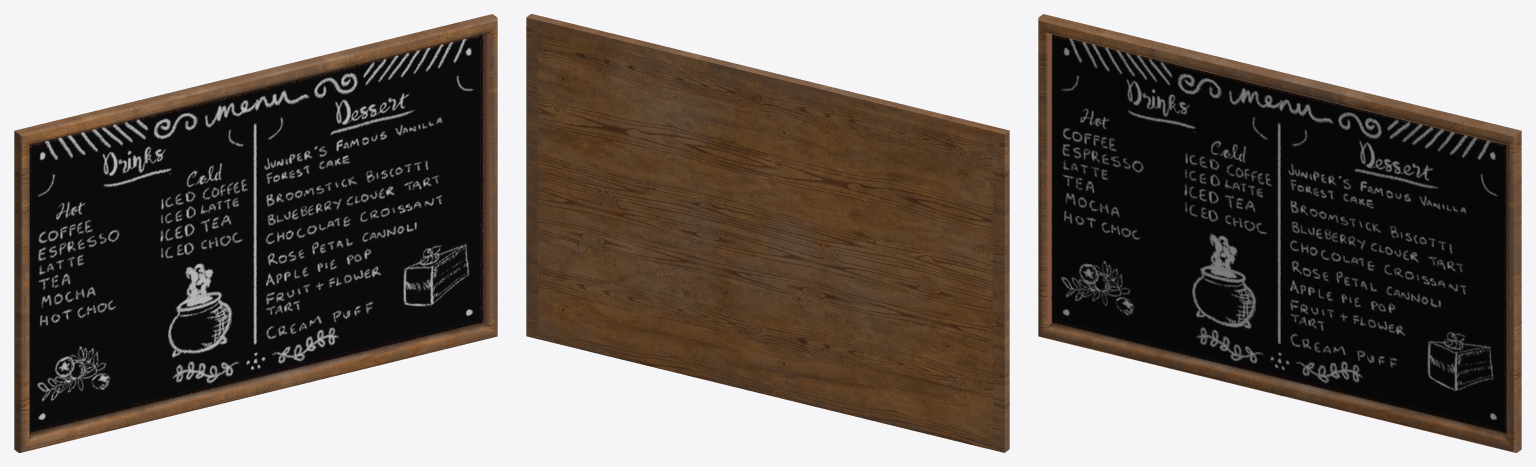
The model's file is menuCarta1.glb.
3 views of the same model, side by side, from view 1: azimuth 30°, elevation 25°; view 2: azimuth 150°, elevation 25°; view 3: azimuth 330°, elevation 25° (orthographic).
Parts seen in each view (by area): view 1: pCube1; view 2: pCube1; view 3: pCube1.
Part boxes in pixels (x1=…): pCube1: x1=14, y1=14, x2=497, y2=452; pCube1: x1=526, y1=14, x2=1009, y2=452; pCube1: x1=1038, y1=14, x2=1521, y2=452.
Bounding box in the file's own units: 18.26 × 11.62 × 0.4619.
1 material, 1 textured.
